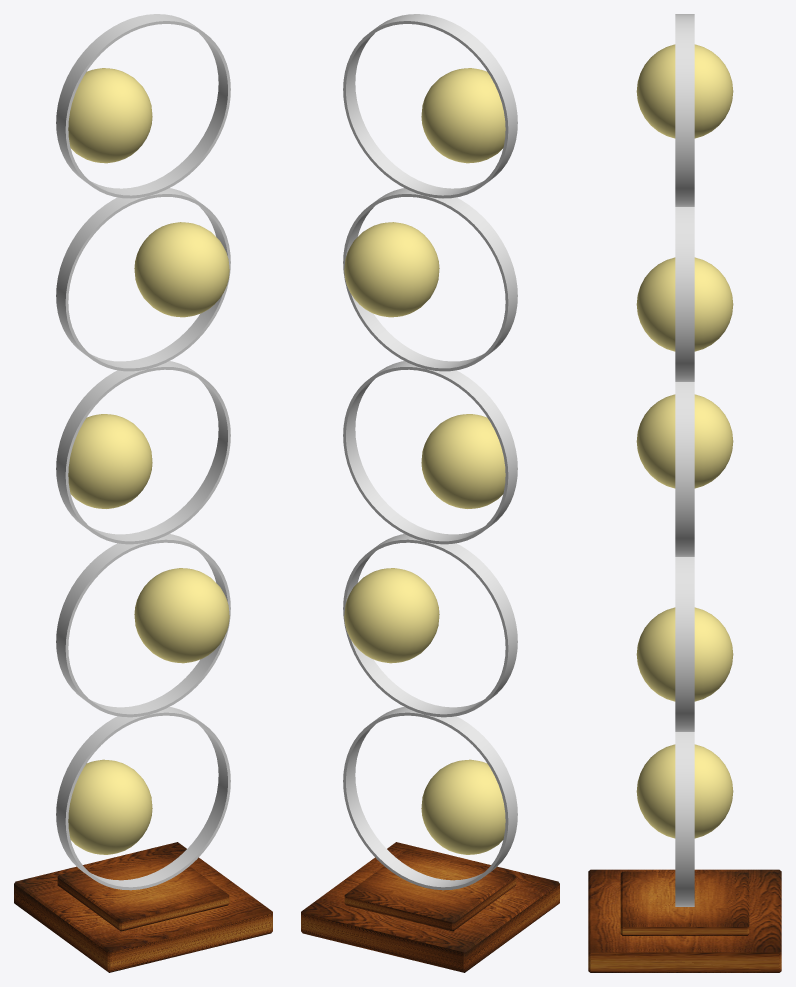
Rendered from light.FBX.
3 views of the same model, side by side, from view 1: azimuth 30°, elevation 25°; view 2: azimuth 150°, elevation 25°; view 3: azimuth 270°, elevation 25° (orthographic).
Visible parts, largest first — view 1: ChamferBox002, ChamferBox001, Sphere004, Sphere002, Sphere001, Sphere005, Sphere003, Tube005, Tube001, Tube004, Tube002, Tube003; view 2: ChamferBox002, ChamferBox001, Sphere004, Sphere002, Sphere001, Sphere005, Sphere003, Tube005, Tube001, Tube004, Tube002, Tube003; view 3: ChamferBox002, ChamferBox001, Sphere004, Sphere005, Sphere003, Sphere002, Sphere001, Tube005, Tube003, Tube004, Tube002, Tube001.
Boxes of the visible parts, bbox=[...] form: ChamferBox002: bbox=[14, 842, 272, 972]; ChamferBox001: bbox=[57, 849, 229, 931]; Sphere004: bbox=[134, 222, 229, 317]; Sphere002: bbox=[134, 568, 229, 663]; Sphere001: bbox=[68, 759, 152, 854]; Sphere005: bbox=[68, 68, 152, 163]; Sphere003: bbox=[68, 414, 152, 508]; Tube005: bbox=[56, 14, 230, 198]; Tube001: bbox=[56, 707, 230, 890]; Tube004: bbox=[56, 361, 230, 544]; Tube002: bbox=[56, 534, 230, 717]; Tube003: bbox=[56, 188, 230, 371]; ChamferBox002: bbox=[301, 842, 559, 972]; ChamferBox001: bbox=[344, 849, 516, 931]; Sphere004: bbox=[344, 222, 439, 317]; Sphere002: bbox=[344, 568, 439, 663]; Sphere001: bbox=[421, 759, 505, 854]; Sphere005: bbox=[421, 68, 505, 163]; Sphere003: bbox=[421, 414, 505, 508]; Tube005: bbox=[343, 14, 517, 198]; Tube001: bbox=[343, 707, 517, 890]; Tube004: bbox=[343, 361, 517, 544]; Tube002: bbox=[343, 534, 517, 717]; Tube003: bbox=[343, 188, 517, 371]; ChamferBox002: bbox=[588, 869, 781, 972]; ChamferBox001: bbox=[620, 871, 749, 935]; Sphere004: bbox=[636, 257, 733, 351]; Sphere005: bbox=[636, 44, 733, 138]; Sphere003: bbox=[636, 394, 733, 488]; Sphere002: bbox=[636, 607, 733, 701]; Sphere001: bbox=[636, 744, 733, 838]; Tube005: bbox=[675, 14, 694, 206]; Tube003: bbox=[675, 207, 694, 381]; Tube004: bbox=[675, 382, 694, 556]; Tube002: bbox=[675, 557, 694, 731]; Tube001: bbox=[675, 732, 694, 906].
Bounding box in the file's own units: 300 × 1560 × 300.
2 materials, 1 textured.
